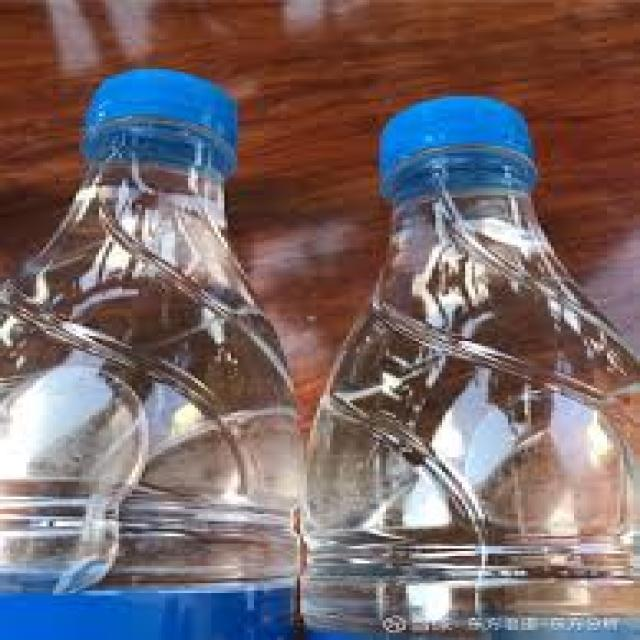Plastic: (305, 94, 640, 640), (0, 62, 310, 640)
